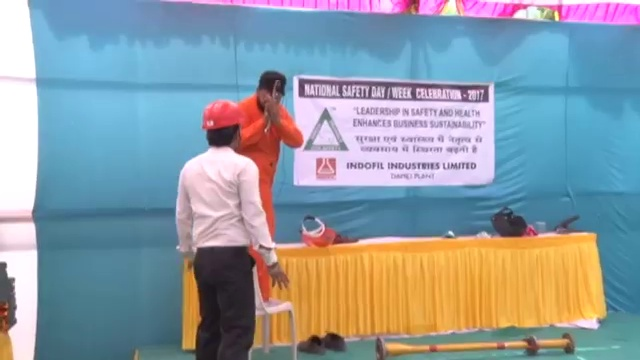helmet: (199, 100, 241, 129)
helmet_off: (257, 68, 286, 111)
helmet_on: (197, 100, 242, 150)
person: (172, 100, 281, 360), (236, 67, 310, 300)
